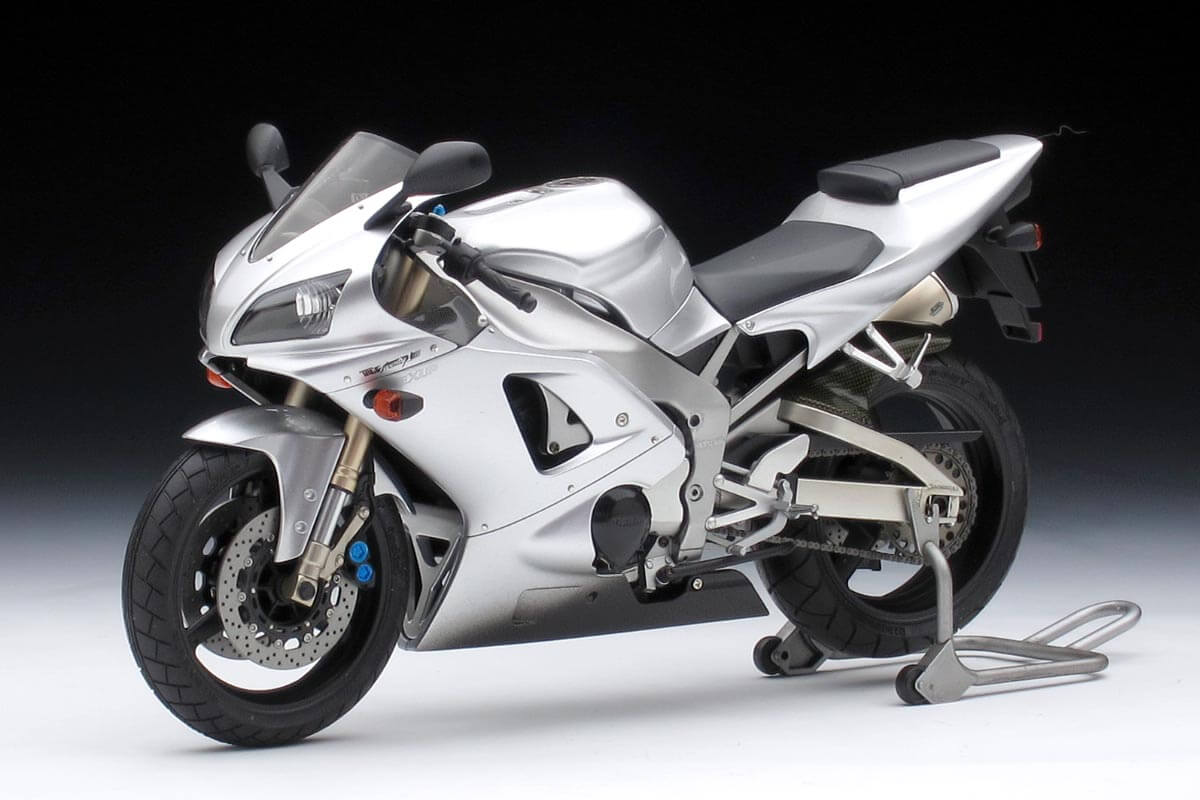motorcycle: (117, 134, 1065, 746)
